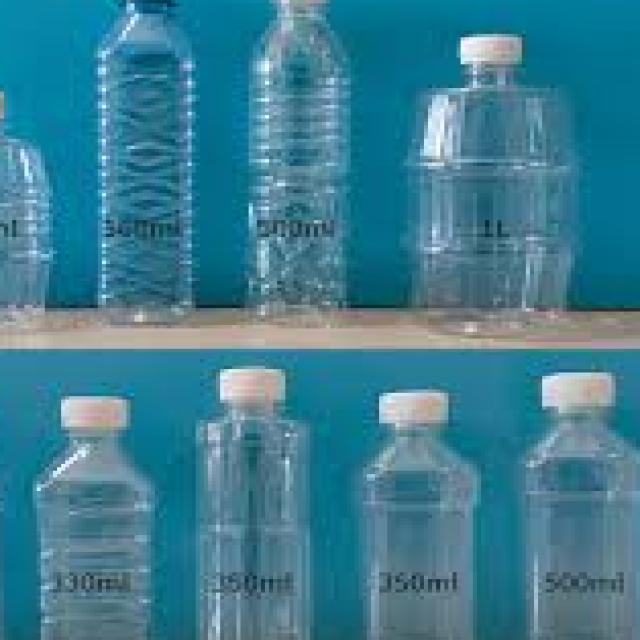organic: (4, 7, 612, 324), (15, 367, 629, 628)
